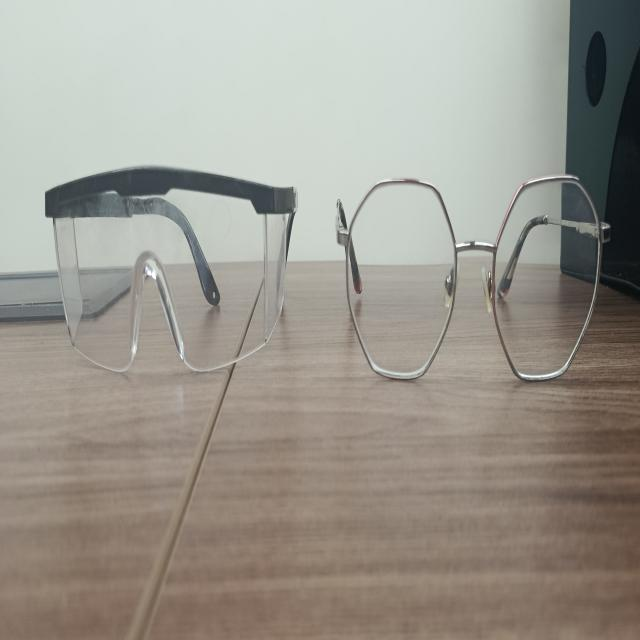oculos-epi: (45, 167, 298, 371)
sem_oculos: (336, 175, 611, 380)
